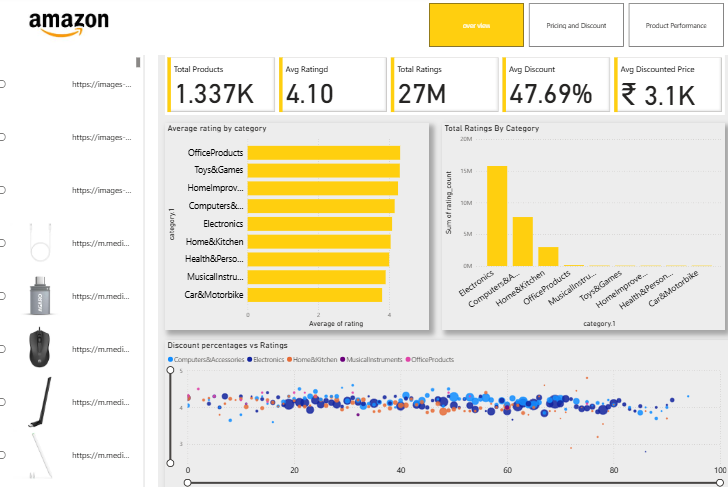

The dashboard page shown, as its layout file describes it:
{"tool":"powerbi","page":{"name":"over view","canvas":[1500,1000],"ordinal":0},"visuals":[{"type":"shape","box":[0,119.9,304.9,880.1],"z":0},{"type":"shape","box":[331.3,119.9,1168.7,880.1],"z":1000},{"type":"cardVisual","fields":{"Data":["Count(amazon.product_name)","Avg(amazon.rating)","Sum(amazon.rating_count)","Avg(amazon.discount_percentage)","Avg(amazon.discounted_price)"]},"box":[345.5,119.9,1138.2,122],"z":2000},{"type":"barChart","title":"Average rating by category","fields":{"Category":["amazon.category.1"],"Y":["Avg(amazon.rating)"]},"box":[345.5,258.1,536.6,420.7],"z":3000},{"type":"columnChart","title":"Total Ratings By Category","fields":{"Category":["amazon.category.1"],"Y":["Sum(amazon.rating_count)"]},"box":[908.5,258.1,575.2,420.7],"z":4000},{"type":"listSlicer","fields":{"Values":["amazon.img_link"]},"box":[0,119.9,300.8,880.1],"z":5000},{"type":"image","box":[0,0,300.8,119.9],"z":6000},{"type":"scatterChart","title":"Discount percentages vs Ratings","fields":{"Y":["Avg(amazon.rating)"],"Series":["amazon.category.1"],"Size":["Sum(amazon.rating_count)"],"X":["amazon.Discount Percentage"]},"box":[345.5,699.2,1146.3,300.8],"z":7000},{"type":"pageNavigator","box":[882.1,14.2,599.6,89.4],"z":8000}]}

Visuals, with their boxes on the page's 1500x1000 design canvas (x1, y1, x2, y2). These are canvas units, not pixel positions in the 728x487 screenshot, which may show the page scaled, cropped or inside an application window:
shape: (left=0, top=120, right=305, bottom=1000)
shape: (left=331, top=120, right=1500, bottom=1000)
cardVisual - Count(amazon.product_name) x Avg(amazon.rating): (left=346, top=120, right=1484, bottom=242)
"Average rating by category" barChart: (left=346, top=258, right=882, bottom=679)
"Total Ratings By Category" columnChart: (left=908, top=258, right=1484, bottom=679)
listSlicer - amazon.img_link: (left=0, top=120, right=301, bottom=1000)
image: (left=0, top=0, right=301, bottom=120)
"Discount percentages vs Ratings" scatterChart: (left=346, top=699, right=1492, bottom=1000)
pageNavigator: (left=882, top=14, right=1482, bottom=104)
